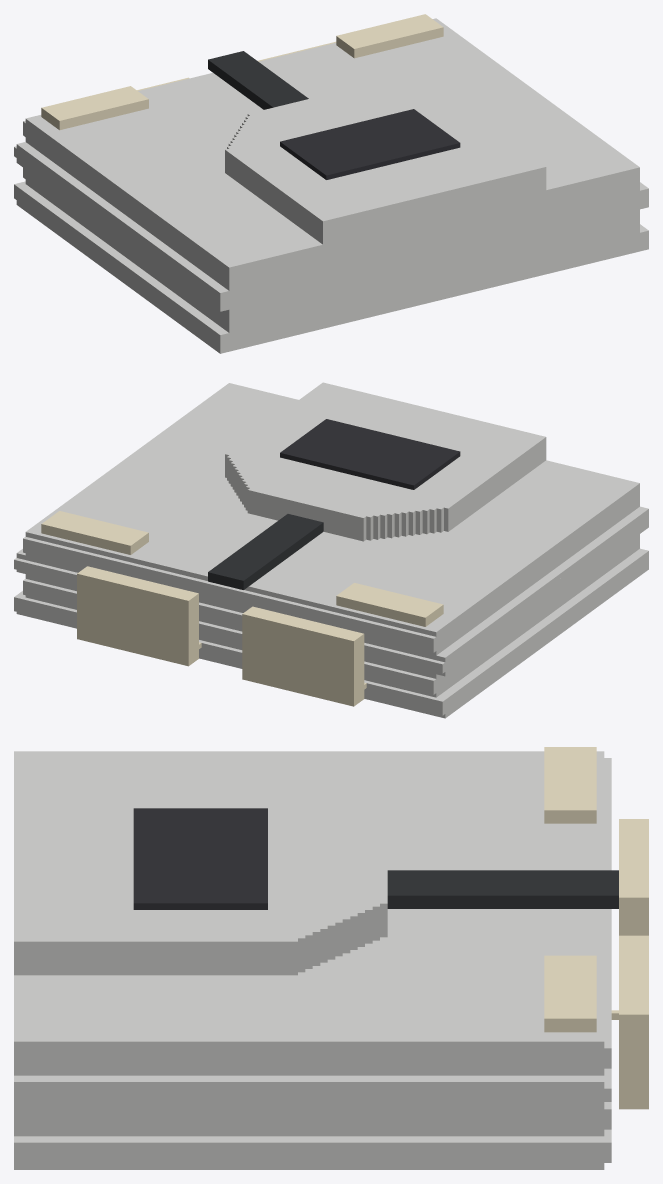
File: cleansuit.glb
3 views of the same model, one above another, from view 1: azimuth 30°, elevation 25°; view 2: azimuth 150°, elevation 25°; view 3: azimuth 270°, elevation 25° (orthographic). The views are drawn at different scales.
Parts seen in each view (by area): view 1: cleansuit:compound; view 2: cleansuit:compound; view 3: cleansuit:compound.
Part boxes in pixels (x1,y1,x2,y2): cleansuit:compound: (14,14,648,353); cleansuit:compound: (14,382,648,718); cleansuit:compound: (14,747,648,1169).
Size of the model in its own units: 0.384 by 0.096 by 0.34.
